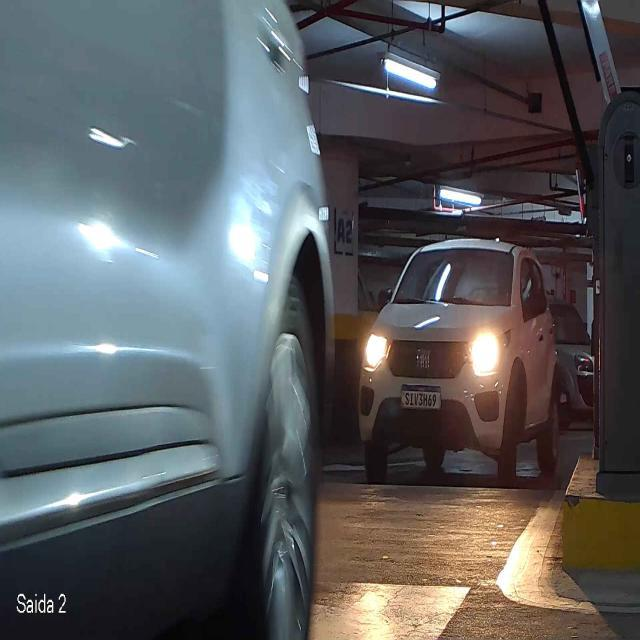mercosul_plate: (399, 383, 442, 410)
